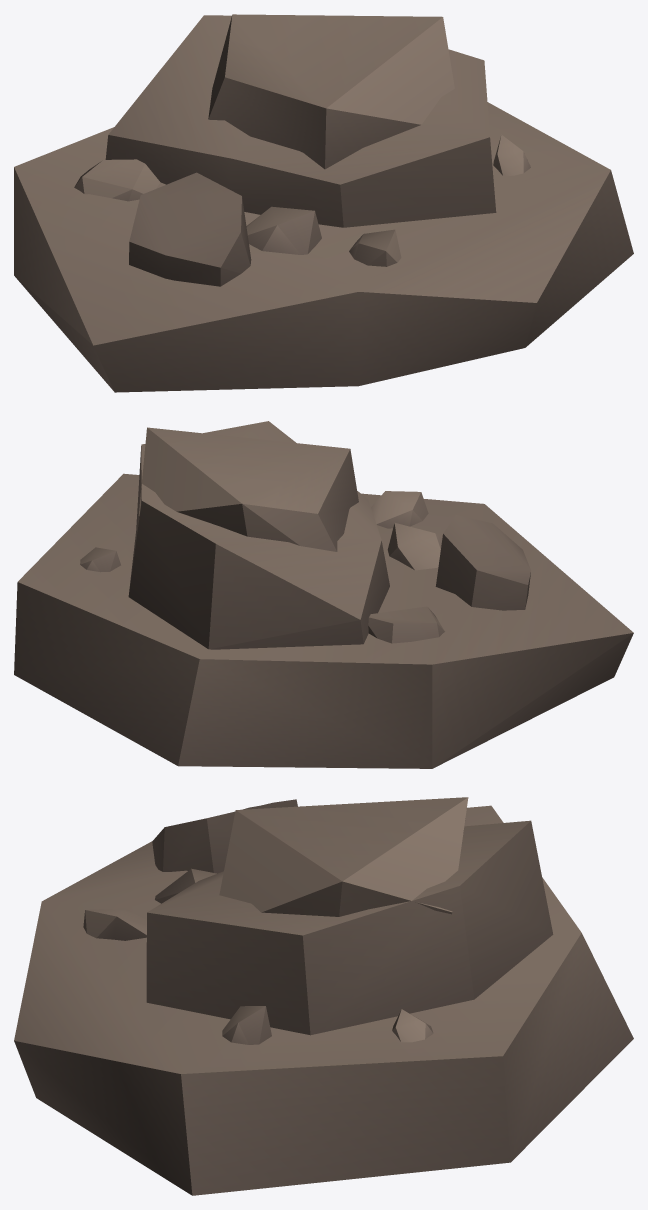
The model's file is rocks_small.glb.
3 renders of one model, top to bottom at view 1: azimuth 30°, elevation 25°; view 2: azimuth 150°, elevation 25°; view 3: azimuth 270°, elevation 25°, orthographic. The views are drawn at different scales.
Visible parts, largest first — view 1: rocks_small; view 2: rocks_small; view 3: rocks_small.
Boxes of the visible parts, left/top/right/bottom form: rocks_small: left=14, top=14, right=633, bottom=392; rocks_small: left=14, top=421, right=633, bottom=768; rocks_small: left=14, top=797, right=633, bottom=1195.
Bounding box in the file's own units: 2.15 × 0.8134 × 1.86.
Materials: 1 (1 with a texture image).
